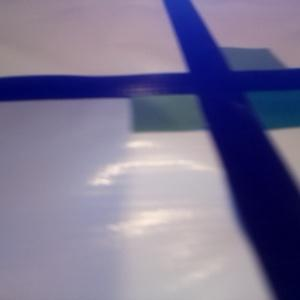bottom_left: (132, 72, 244, 131)
bottom_right: (211, 72, 300, 131)
top_right: (191, 49, 285, 91)
